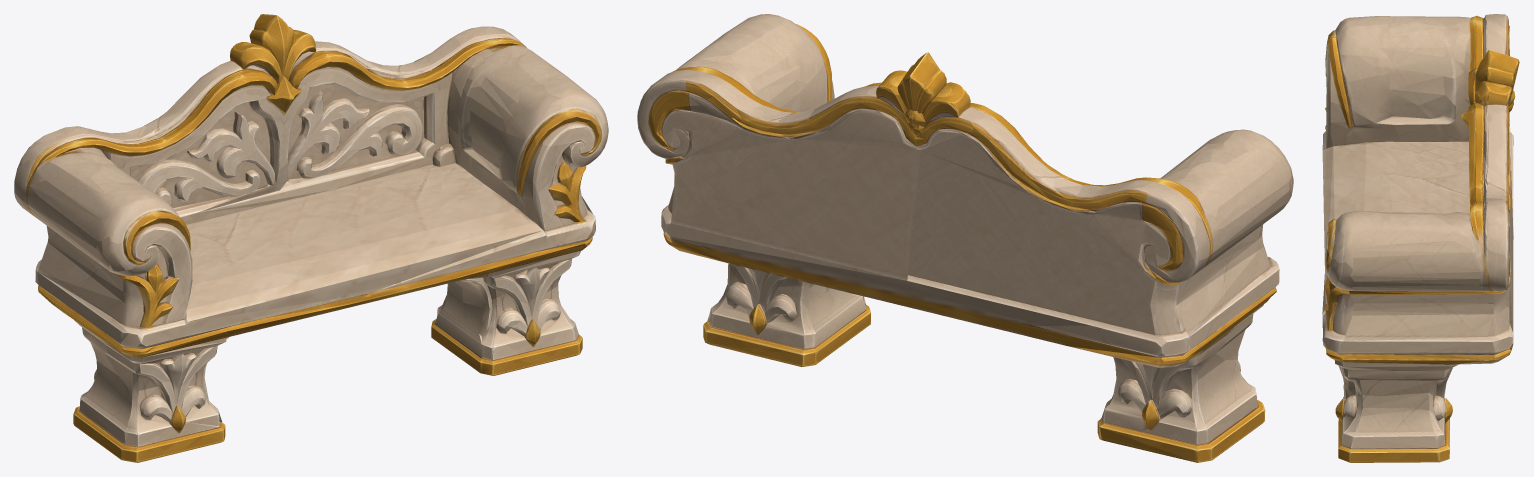
The model's file is iso-bench.glb.
3 views of the same model, side by side, from view 1: azimuth 30°, elevation 25°; view 2: azimuth 150°, elevation 25°; view 3: azimuth 270°, elevation 25° (orthographic). The views are drawn at different scales.
Parts seen in each view (by area): view 1: Mesh_0; view 2: Mesh_0; view 3: Mesh_0.
Part boxes in pixels (x1=…): Mesh_0: x1=14, y1=14, x2=608, y2=462; Mesh_0: x1=637, y1=14, x2=1293, y2=462; Mesh_0: x1=1322, y1=14, x2=1519, y2=462.
Size of the model in its own units: 1.9 by 1.2 by 0.6882.
Materials: 1 (1 with a texture image).
